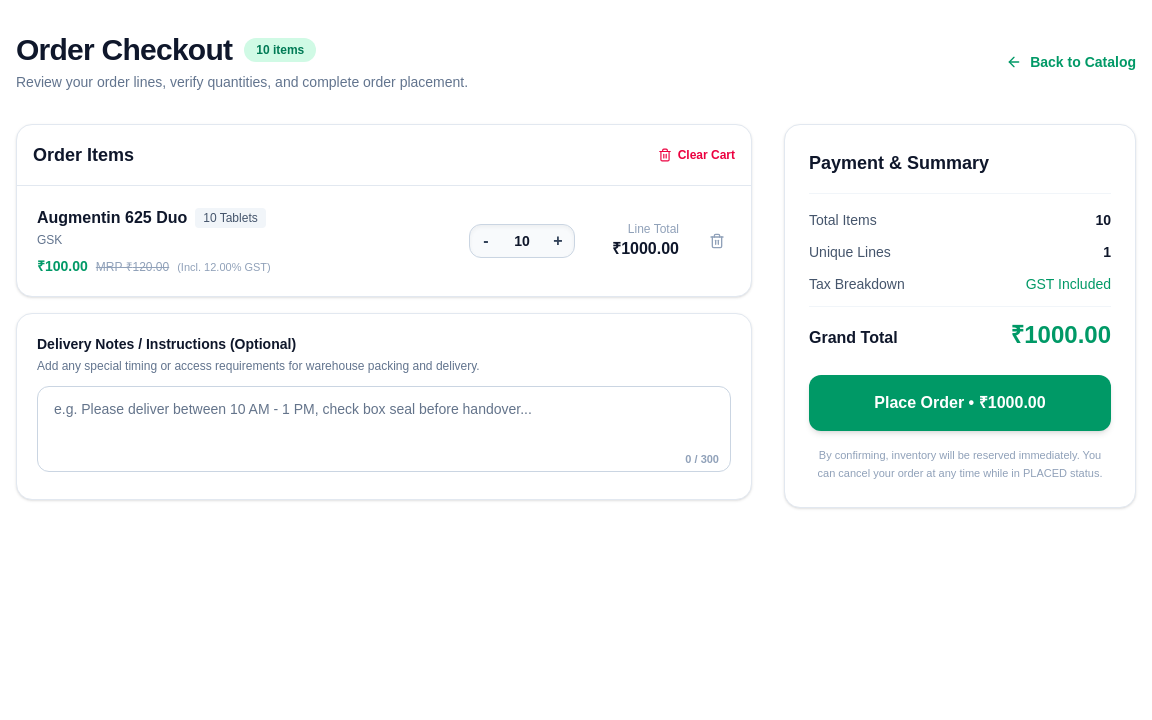
Test: CartCheckoutView Component › displays shortage warning and updates quantity when Use Available is clicked on 409 INSUFFICIENT_STOCK
The image size is (1152, 720).
Click the button "Place Order • ₹1000.00": [960, 403] box left=809, top=375, right=1111, bottom=431
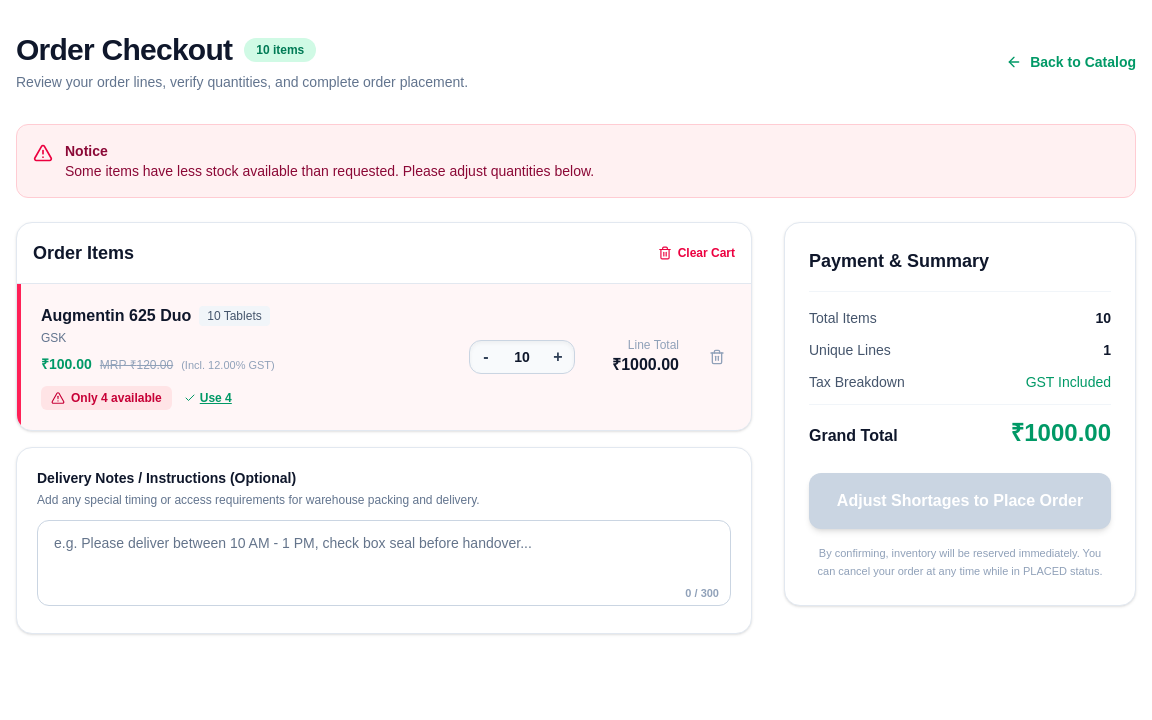
expect the text "Only 4 available" is shown: met, box left=41, top=386, right=172, bottom=410
expect the button "Use 4" is shown: met
// Click "Use 4"
Click the button "Use 4": [208, 398] box left=184, top=390, right=232, bottom=406
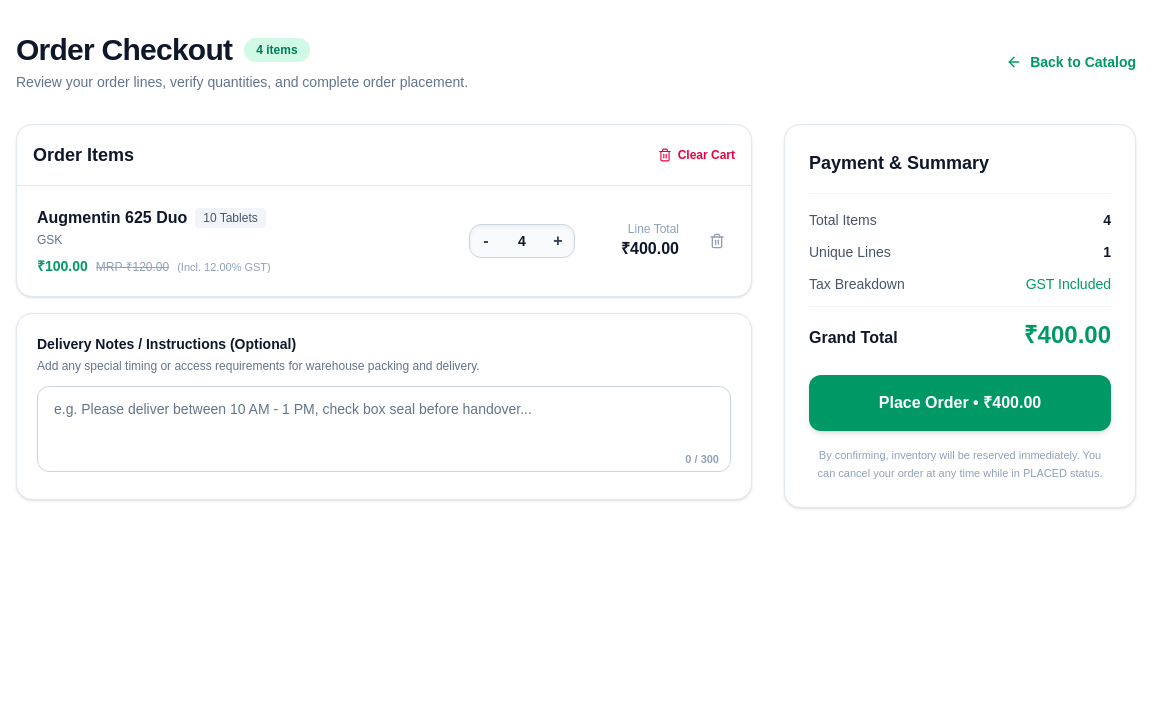
expect the text "Only 4 available" is gone: met
